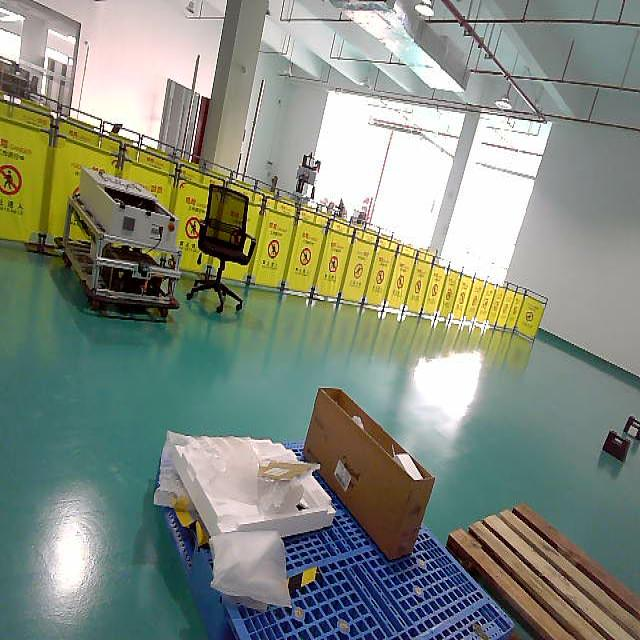euro: (444, 501, 640, 640)
